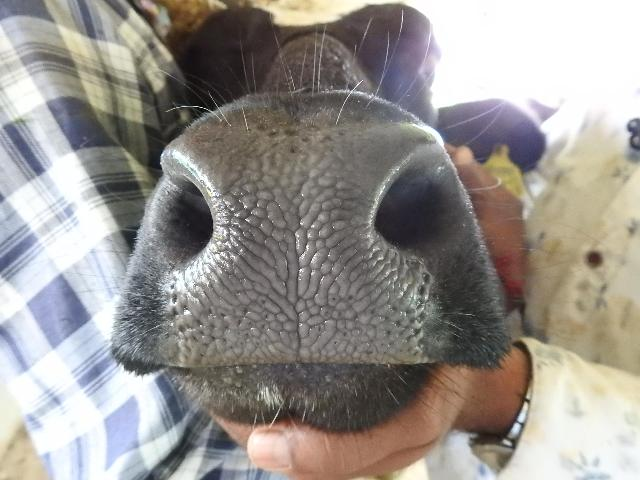Muzzle: (160, 123, 440, 365)
